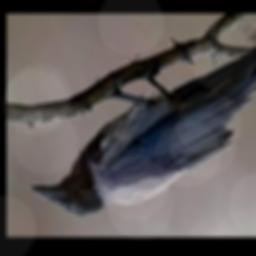Crow: (30, 38, 256, 217)
